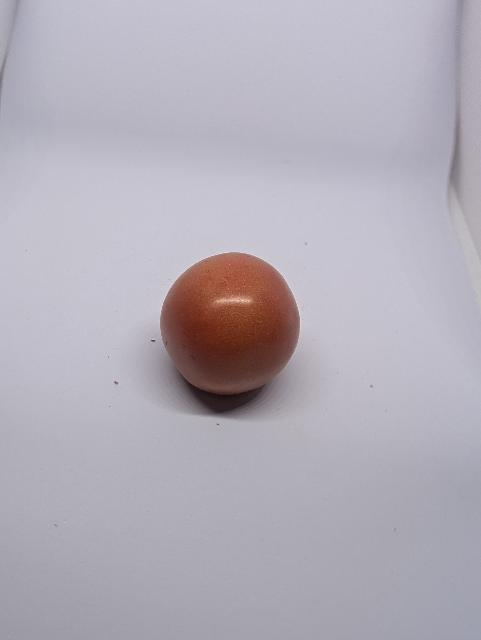red: (149, 242, 319, 413)
